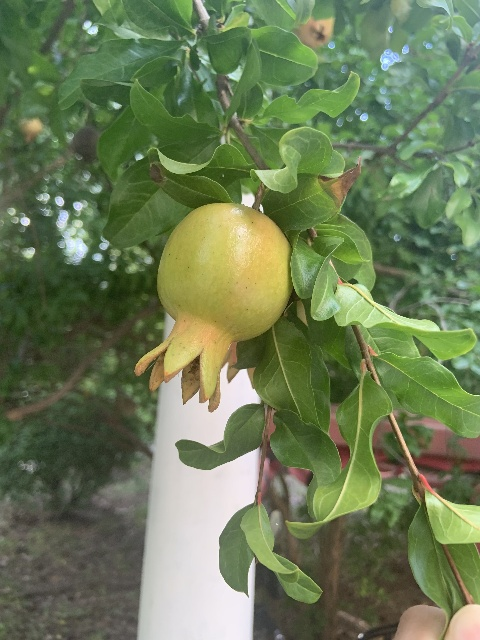mid-growth: (134, 201, 292, 413)
